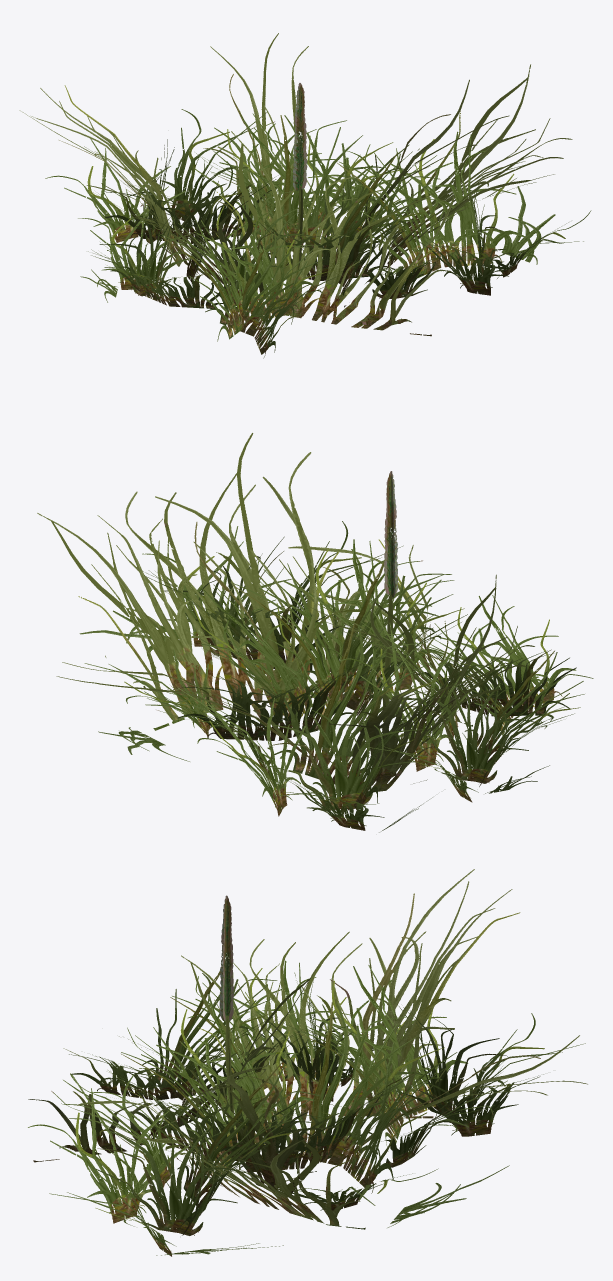
The model's file is SM_Fol_Grass_Set1.fbx.
The picture shows the model from 3 angles, top to bottom: view 1: azimuth 30°, elevation 25°; view 2: azimuth 150°, elevation 25°; view 3: azimuth 270°, elevation 25°; orthographic projection. The views are drawn at different scales.
Parts seen in each view (by area): view 1: SM_Fol_Grass_Set1; view 2: SM_Fol_Grass_Set1; view 3: SM_Fol_Grass_Set1.
Part boxes in pixels (left/top/right/bottom): SM_Fol_Grass_Set1: left=19, top=33, right=591, bottom=358; SM_Fol_Grass_Set1: left=37, top=433, right=593, bottom=832; SM_Fol_Grass_Set1: left=28, top=869, right=587, bottom=1256.
Size of the model in its own units: 126 by 119 by 58.64.
1 material, 1 textured.
